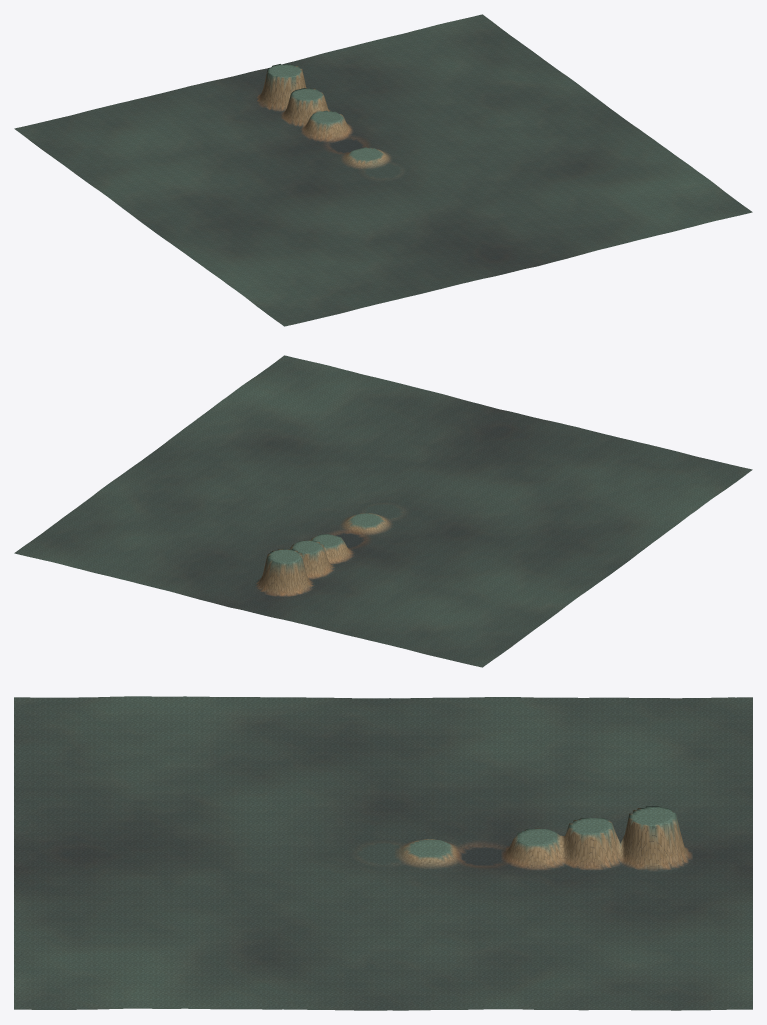
The model's file is city.glb.
The picture shows the model from 3 angles, top to bottom: view 1: azimuth 30°, elevation 25°; view 2: azimuth 150°, elevation 25°; view 3: azimuth 270°, elevation 25°; orthographic projection. The views are drawn at different scales.
Visible parts, largest first — view 1: Heightfield; view 2: Heightfield; view 3: Heightfield.
Boxes of the visible parts, x1,y1,x2,y2 form: Heightfield: (14,14,752,326); Heightfield: (14,355,752,667); Heightfield: (14,696,752,1010).
Size of what is drawn, in the model's own units: 4800 by 290 by 4800.
Materials: 1 (1 with a texture image).
